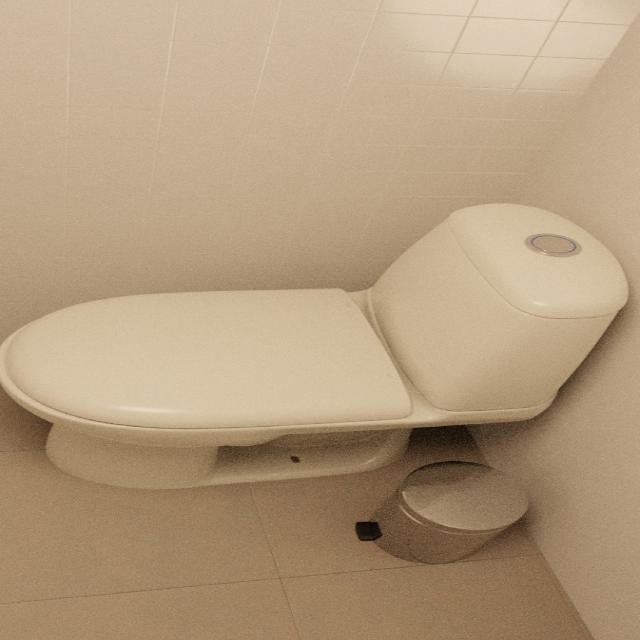toilet: (0, 201, 629, 490)
